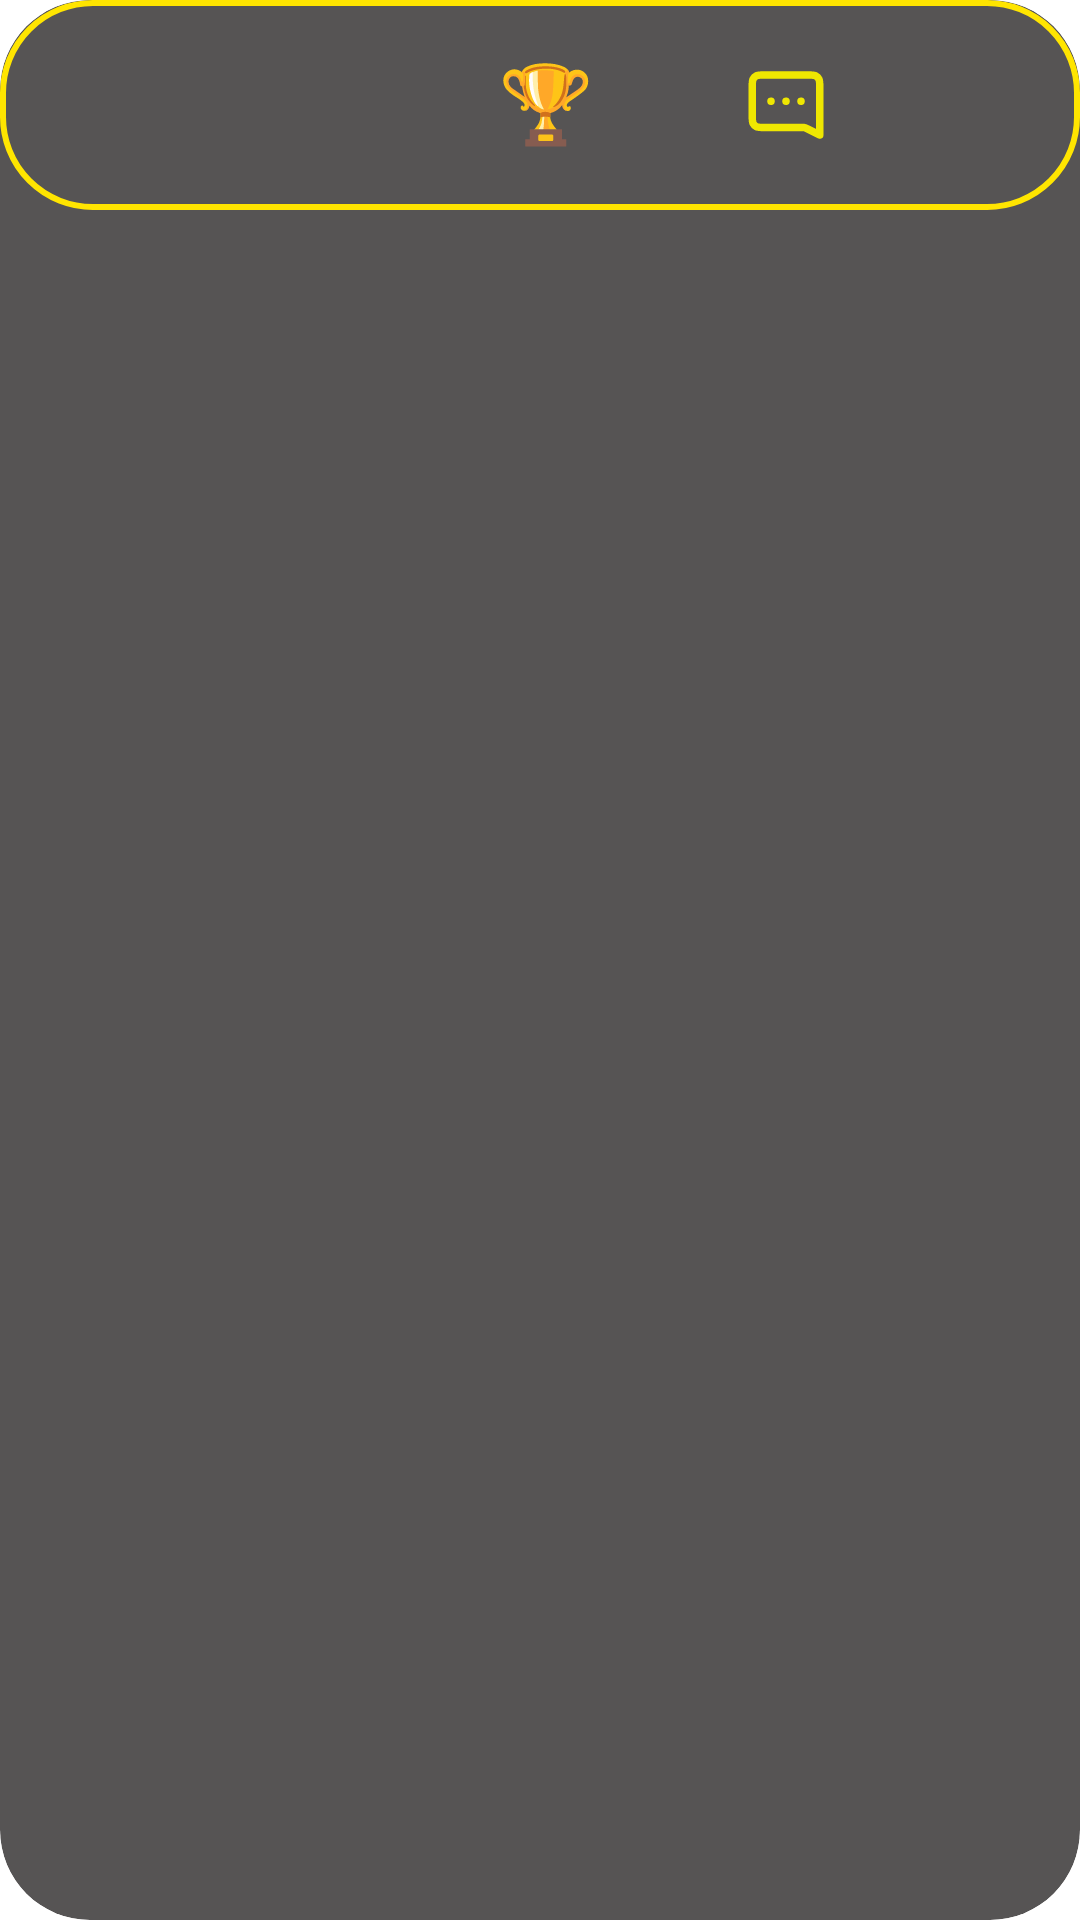

Icon bounding boxes for this 1080px x 1920px phone screenshot, format bbox(x1, y1, x2, y2):
message square dots: bbox(748, 71, 824, 139)
trophy: bbox(503, 63, 589, 146)
